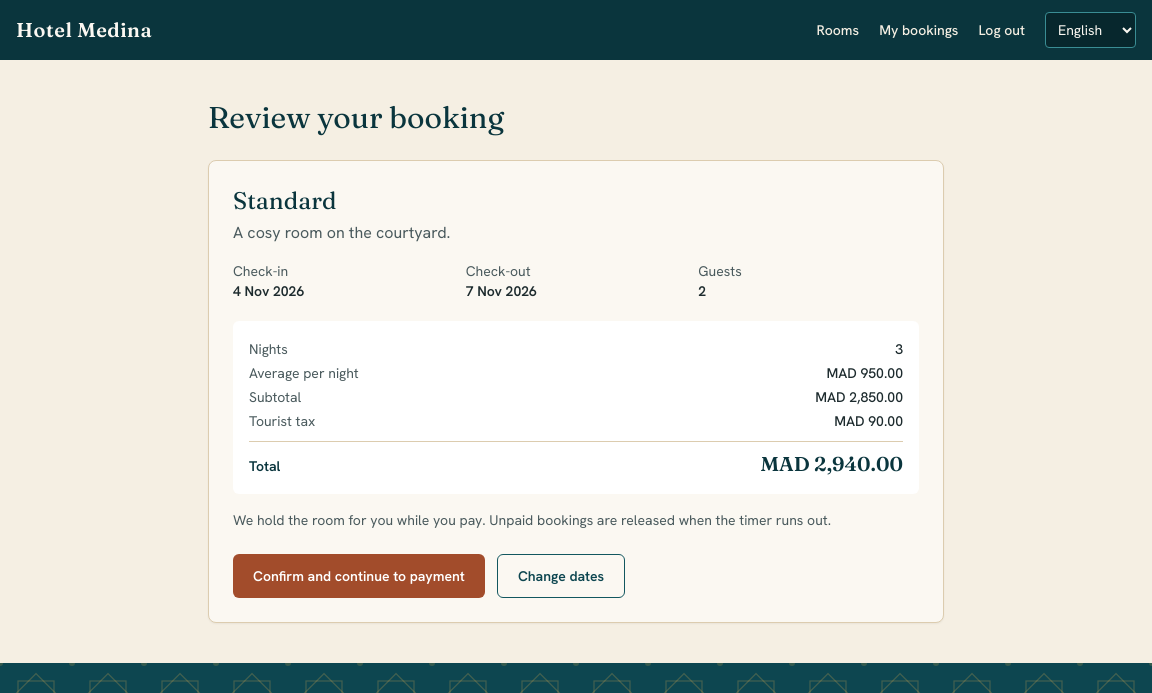
Test: booking flow › shows a clear message and a change-dates path on 409 no_availability
Click the button "Confirm and continue to payment".
click(359, 576)  # box [233,554,485,598]
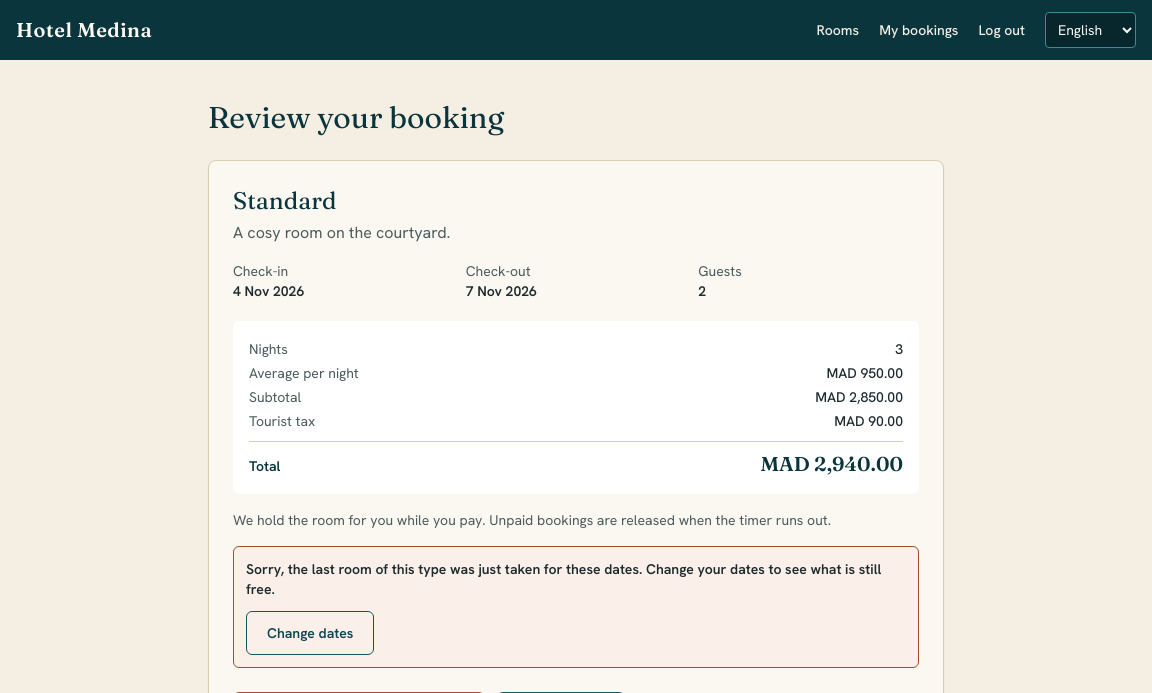
expect the text "last room of this type was just taken" is shown: met, box [246,560,881,598]
